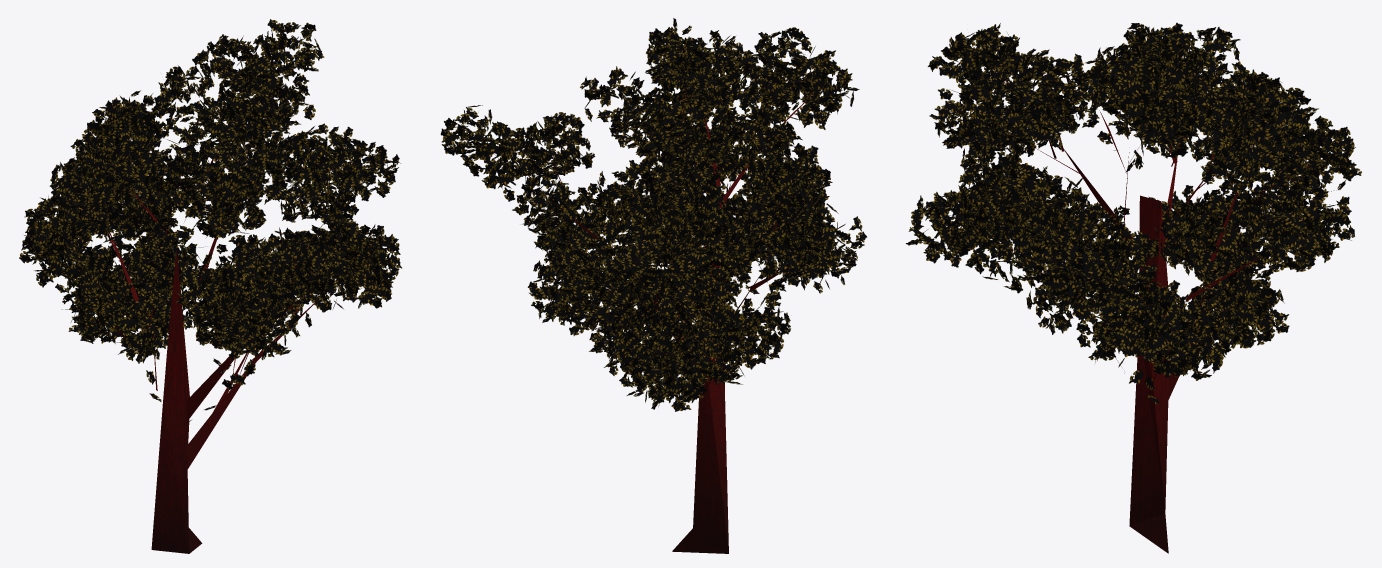
The model's file is broadleaf_giant_v03_LOD1.glb.
The picture shows the model from 3 angles, left to right: view 1: azimuth 30°, elevation 25°; view 2: azimuth 150°, elevation 25°; view 3: azimuth 270°, elevation 25°; orthographic projection. The views are drawn at different scales.
Parts seen in each view (by area): view 1: broadleaf_giant_v03_LOD1; view 2: broadleaf_giant_v03_LOD1; view 3: broadleaf_giant_v03_LOD1.
Boxes of the visible parts, x1,y1,x2,y2 form: broadleaf_giant_v03_LOD1: (19, 19, 402, 553); broadleaf_giant_v03_LOD1: (440, 18, 867, 553); broadleaf_giant_v03_LOD1: (906, 22, 1361, 553).
Size of the model in its own units: 34.72 by 42.57 by 35.01.
Materials: 2 (2 with a texture image).
